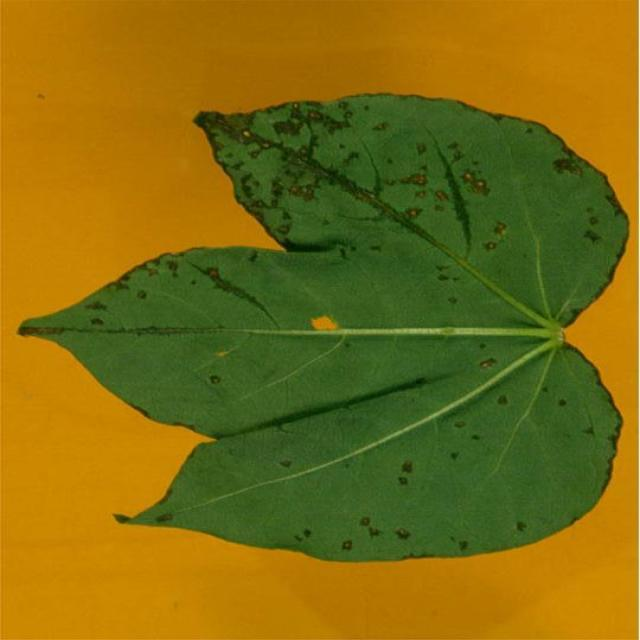Bacterial Blight: (232, 101, 537, 259)
